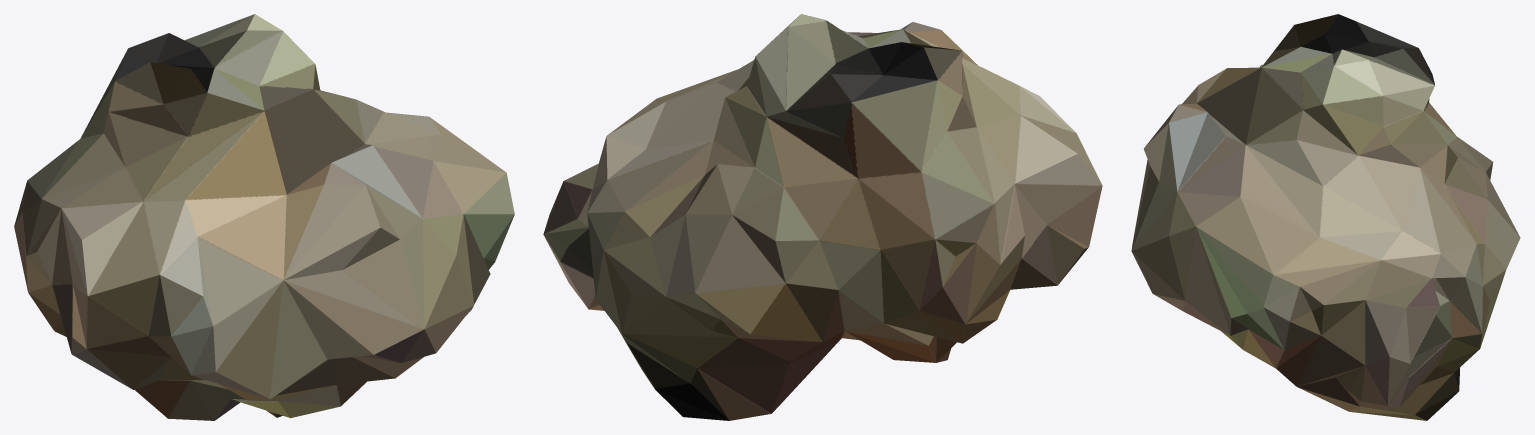
File: dustStorm.fbx
The picture shows the model from 3 angles, left to right: view 1: azimuth 30°, elevation 25°; view 2: azimuth 150°, elevation 25°; view 3: azimuth 270°, elevation 25°; orthographic projection. The views are drawn at different scales.
Parts seen in each view (by area): view 1: Mesh_0; view 2: Mesh_0; view 3: Mesh_0.
Boxes of the visible parts, x1,y1,x2,y2 form: Mesh_0: [14, 14, 514, 420]; Mesh_0: [543, 14, 1102, 420]; Mesh_0: [1131, 14, 1520, 420].
Bounding box in the file's own units: 118 × 94.38 × 99.08.
Materials: 1 (1 with a texture image).
